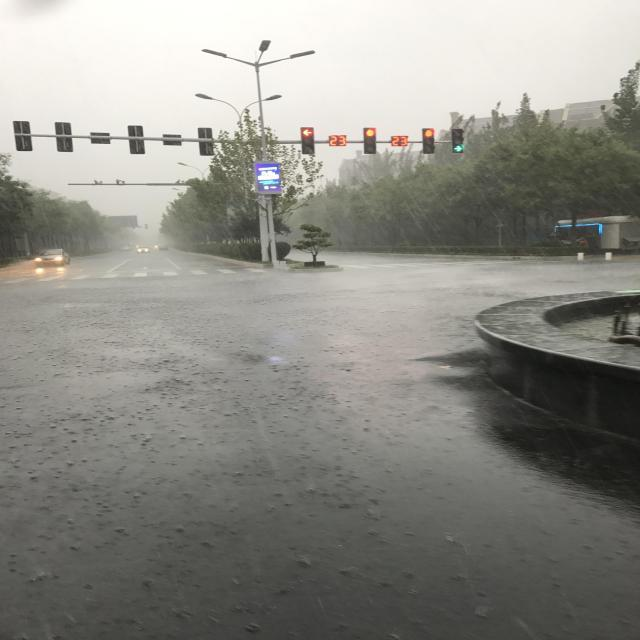car: (248, 568, 265, 607), (246, 491, 252, 505), (245, 470, 250, 480), (247, 514, 252, 520)
